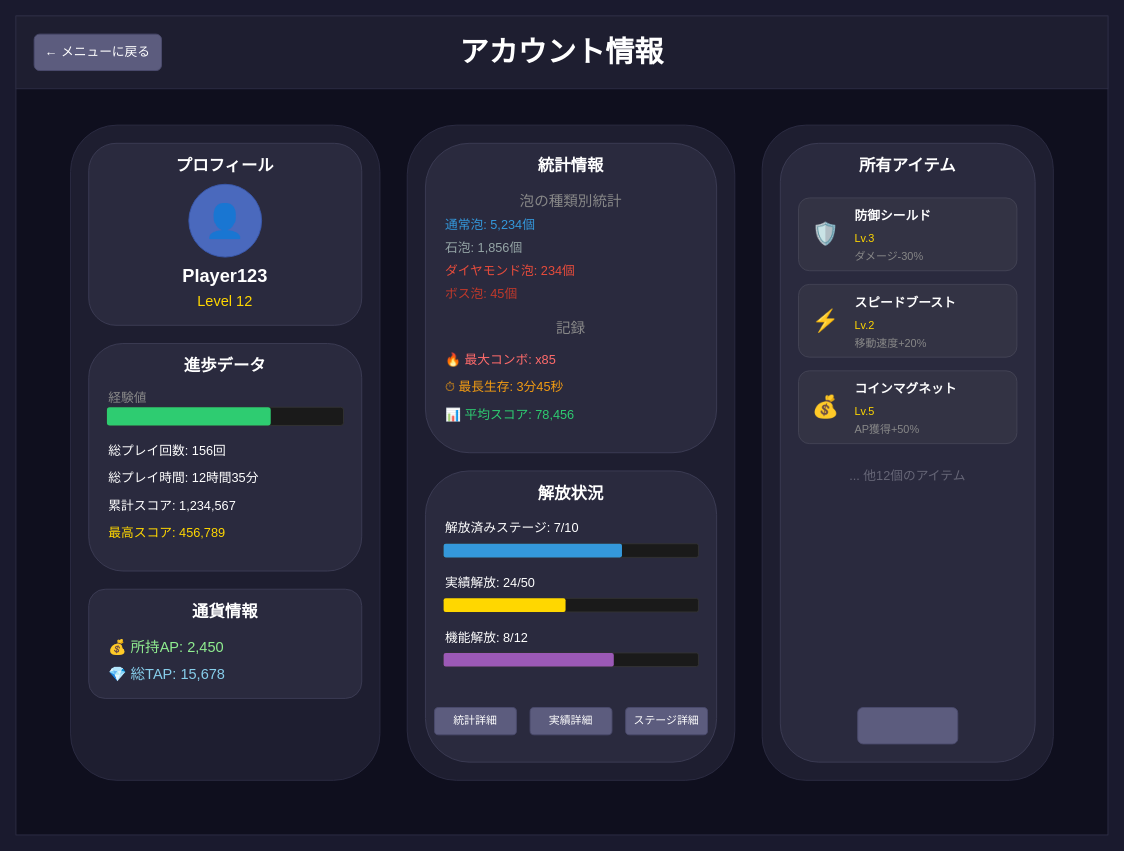
This 1124x851 diagram has some shape labels left out. The shapes that lost their labels are listed below. From the top down, each one's box as (x1, y1, x2, y2) in pixels, then its label:
(106, 407, 270, 425): 2,500 / 3,000 XP
(857, 707, 958, 744): アイテム詳細
